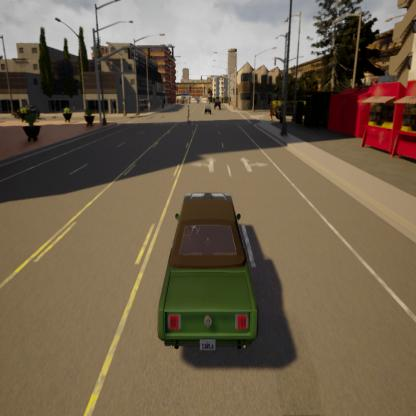Cars: (153, 180, 277, 373)
